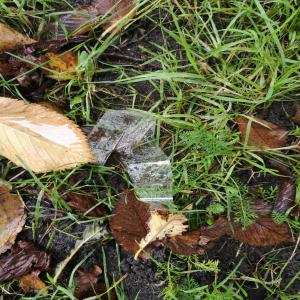Trash: (88, 109, 176, 206)
